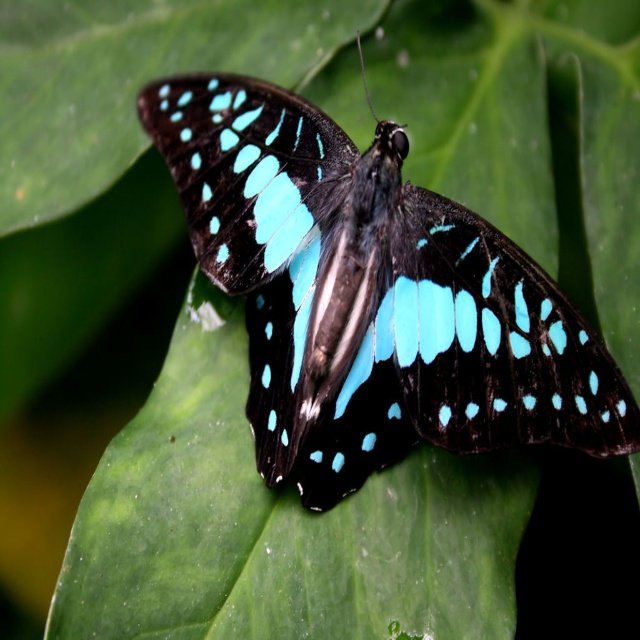Butterfly: (136, 29, 640, 515)
